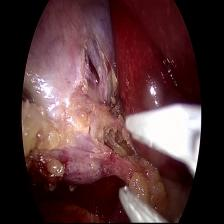Clipper: (118, 99, 202, 224)
